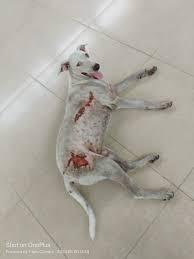cut: (57, 85, 127, 187)
